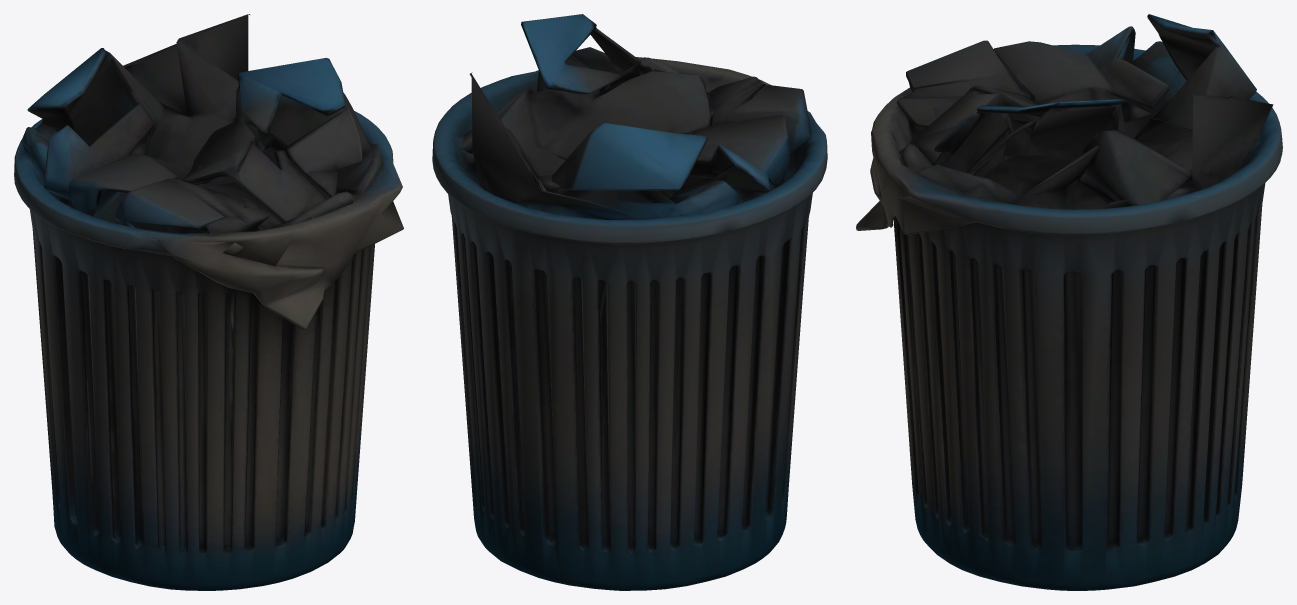
The model's file is CrushedGarbageCan2.glb.
3 views of the same model, side by side, from view 1: azimuth 30°, elevation 25°; view 2: azimuth 150°, elevation 25°; view 3: azimuth 270°, elevation 25° (orthographic). The views are drawn at different scales.
Parts seen in each view (by area): view 1: CrushedGarbageCan2; view 2: CrushedGarbageCan2; view 3: CrushedGarbageCan2.
Boxes of the visible parts, x1,y1,x2,y2 form: CrushedGarbageCan2: (14,14,403,590); CrushedGarbageCan2: (432,14,827,590); CrushedGarbageCan2: (856,14,1282,590).
Bounding box in the file's own units: 1.45 × 1.9 × 1.52.
Materials: 1 (1 with a texture image).
